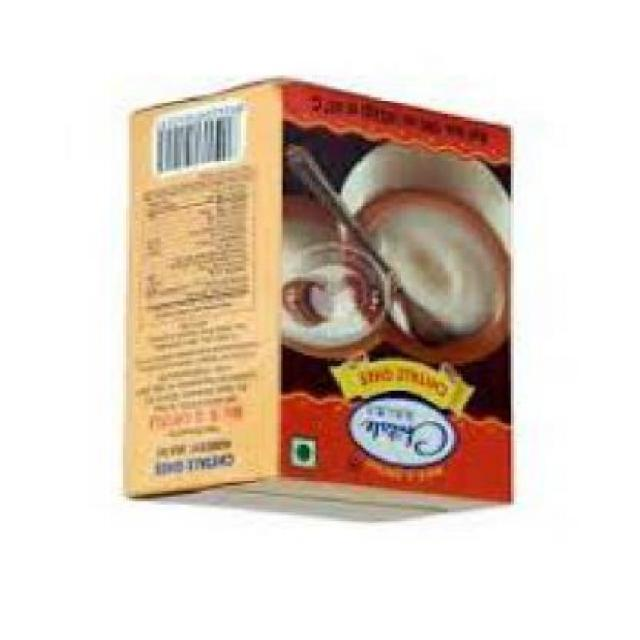box: (132, 82, 514, 525)
